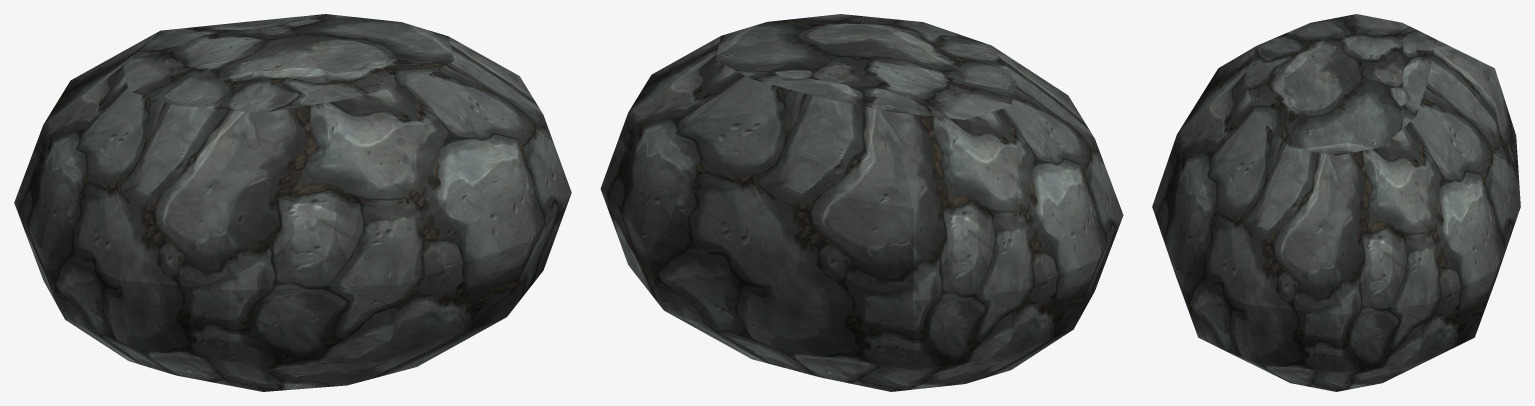
The model's file is platform2_rock.fbx.
3 renders of one model, left to right at view 1: azimuth 30°, elevation 25°; view 2: azimuth 150°, elevation 25°; view 3: azimuth 270°, elevation 25°, orthographic. The views are drawn at different scales.
Parts seen in each view (by area): view 1: Mesh; view 2: Mesh; view 3: Mesh.
Boxes of the visible parts, <box> form: Mesh: <box>14,14,571,391</box>; Mesh: <box>600,14,1123,391</box>; Mesh: <box>1152,14,1520,391</box>.
Bounding box in the file's own units: 203 × 125 × 151.
